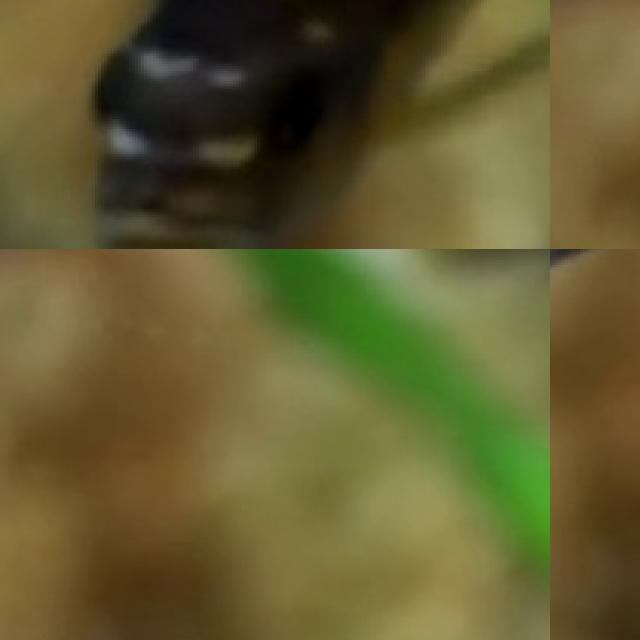fish: (0, 0, 550, 249), (550, 0, 640, 249)
